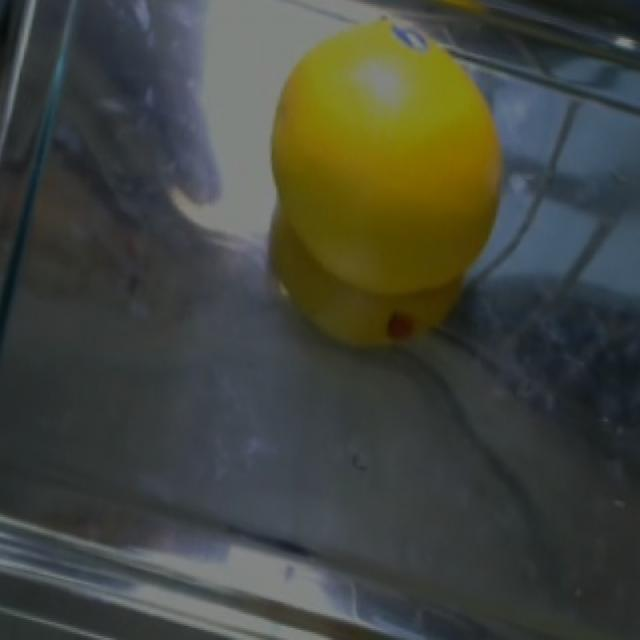Fruit: (241, 0, 523, 374)
